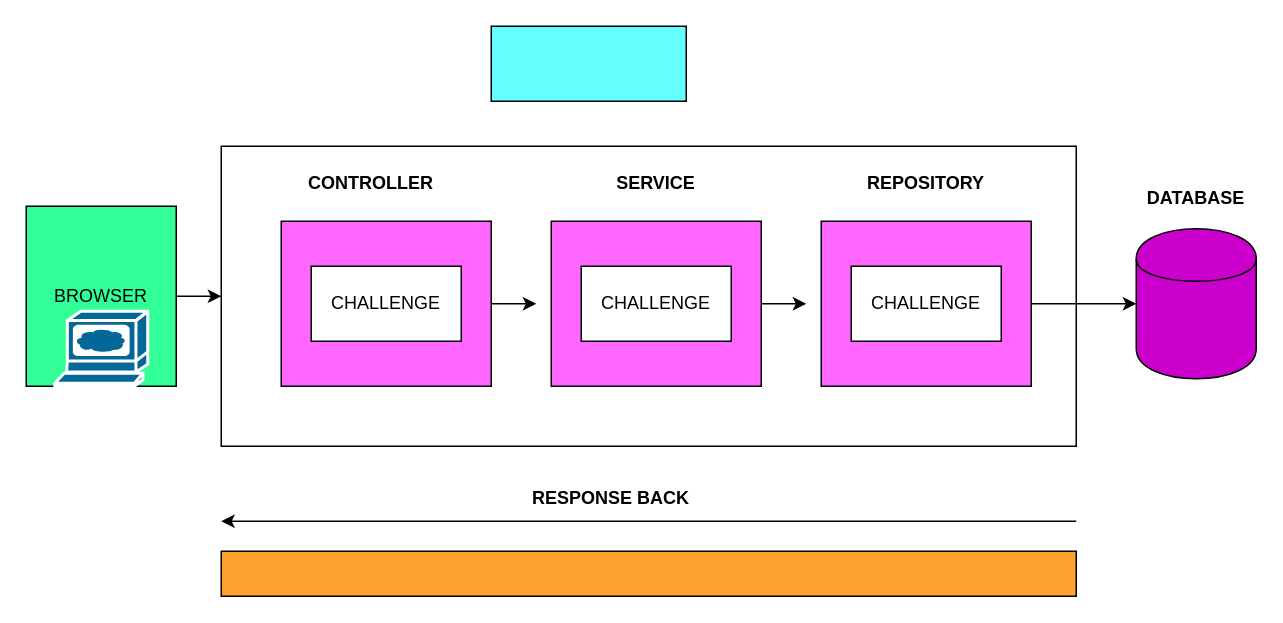
The diagram is 1283 pixels wide and 623 high, and some of its shapes have lost their labels. Here are the shapes that lost their labels. From the top down, the centre of each, then its label:
At pixel 588 63: "OUR APPLICATION".
At pixel 648 573: "SERVER".
